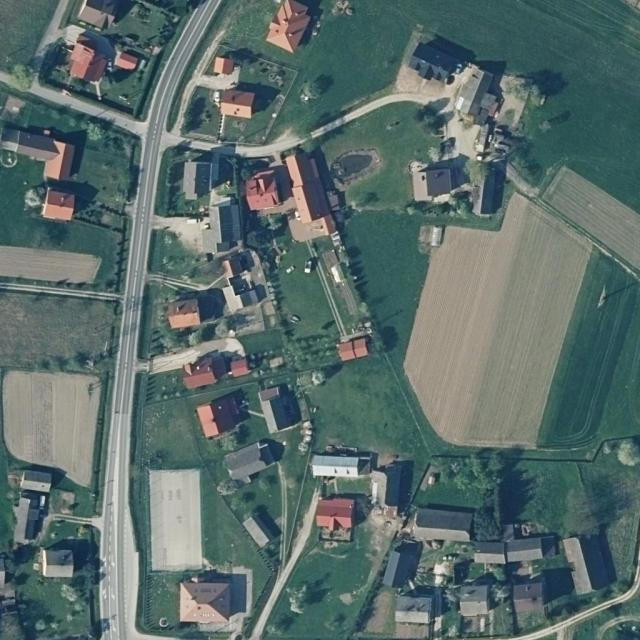agricultural_land: (381, 176, 602, 466), (228, 0, 433, 149), (286, 341, 445, 507), (533, 248, 640, 461), (339, 200, 450, 373), (164, 468, 270, 592), (540, 161, 640, 271), (126, 370, 201, 472), (263, 242, 337, 343), (516, 456, 598, 539), (148, 469, 203, 571), (5, 92, 88, 147), (72, 146, 139, 210), (37, 213, 120, 262), (0, 155, 41, 245), (137, 571, 180, 633), (226, 0, 274, 53), (412, 481, 478, 508)
building: (397, 26, 517, 130), (270, 149, 338, 245), (0, 126, 78, 184), (49, 22, 117, 88), (222, 432, 292, 488), (562, 528, 619, 595), (179, 348, 251, 390), (263, 0, 314, 54), (472, 535, 558, 567), (381, 535, 424, 592), (194, 392, 246, 439), (258, 382, 305, 434), (472, 155, 510, 218), (199, 199, 242, 254), (371, 461, 411, 517), (179, 581, 231, 624), (239, 502, 283, 550), (413, 507, 472, 541), (410, 160, 452, 201), (241, 169, 281, 212), (219, 272, 259, 313), (316, 498, 354, 541), (42, 187, 77, 223), (218, 248, 257, 280), (182, 161, 212, 201), (165, 298, 200, 330), (219, 88, 255, 118), (312, 455, 358, 478), (24, 493, 45, 542), (512, 582, 544, 614), (458, 585, 490, 616), (396, 597, 433, 623), (42, 549, 74, 577), (336, 337, 369, 362), (13, 497, 30, 543), (20, 470, 52, 492), (222, 87, 256, 107), (112, 49, 140, 73), (214, 56, 235, 74), (0, 557, 7, 588)
greenland: (315, 89, 460, 229), (429, 418, 549, 542), (277, 321, 347, 379), (246, 215, 288, 278), (110, 52, 149, 116), (77, 116, 137, 157), (411, 97, 454, 140), (153, 146, 177, 217), (40, 42, 70, 88)
unmetalled_road: (248, 488, 329, 640), (28, 77, 150, 140), (305, 82, 437, 140), (0, 246, 102, 291), (161, 131, 309, 158), (277, 464, 290, 569)
